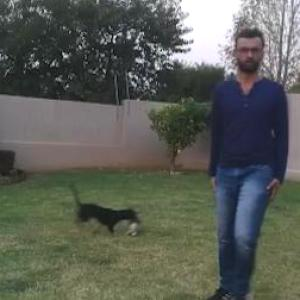follow: (205, 25, 288, 299)
